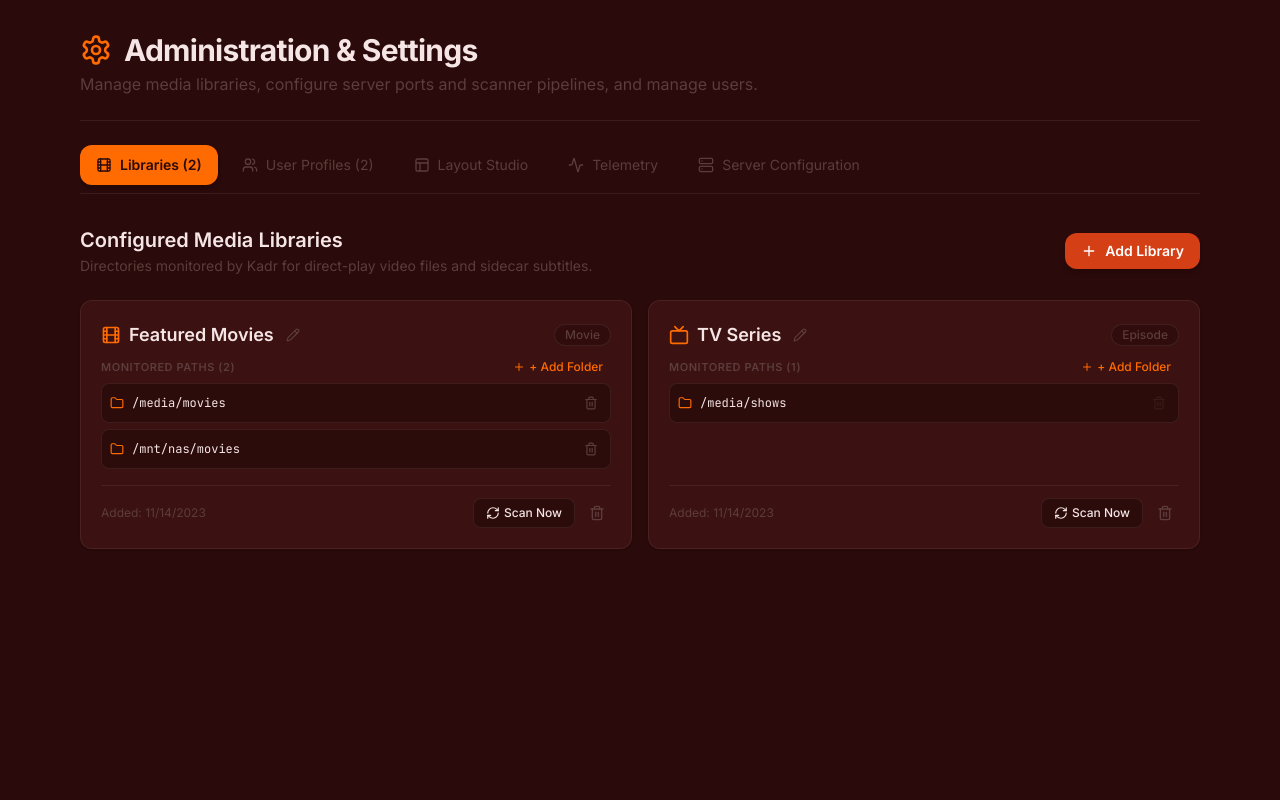
Test: AdminDashboard Component › opens Add Library modal, adds folder path via picker, and creates library
The image size is (1280, 800).
Expected: the heading "Featured Movies" is shown, [129,321,274,349]
Click the button "Add Library" at (1133, 251), box [1065,233,1200,269]
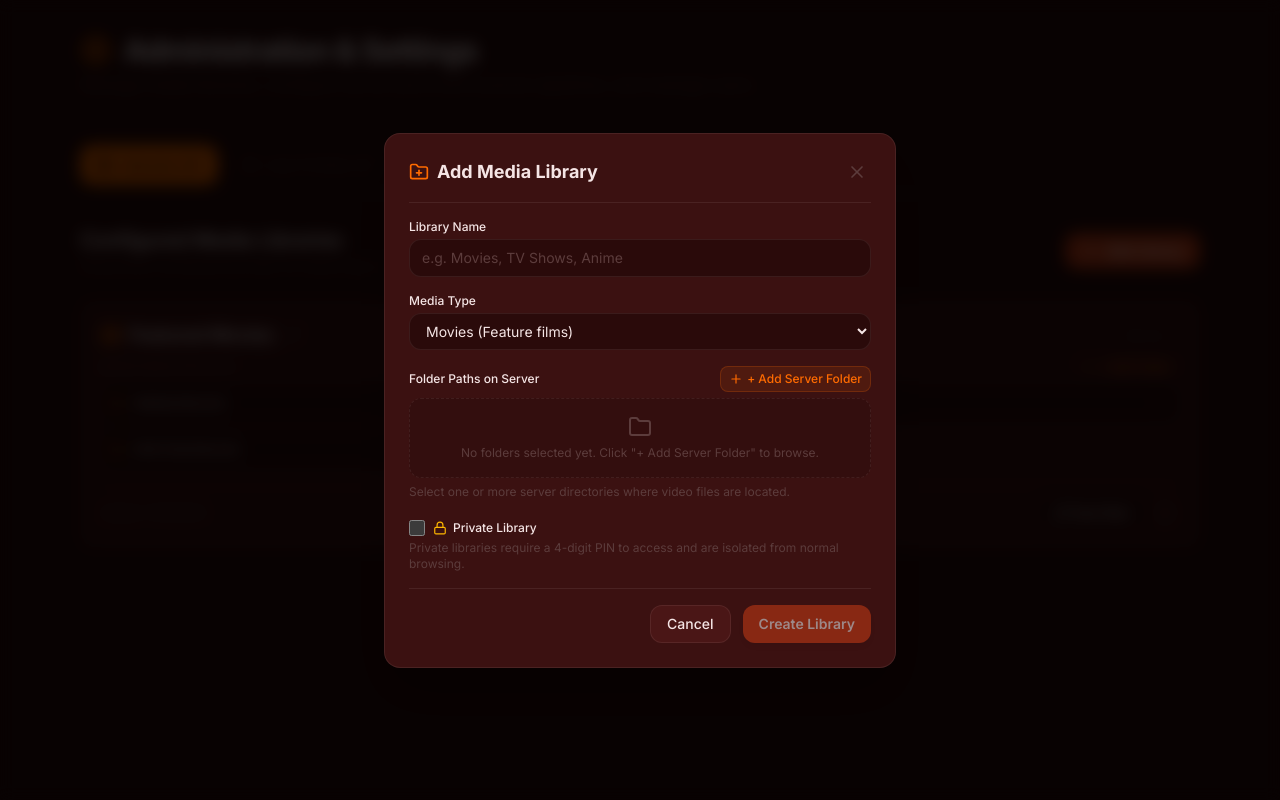
Type "Documentaries" into the field with placeholder "e.g. Movies, TV Shows, Anime" at (640, 258), box [409,238,871,276]
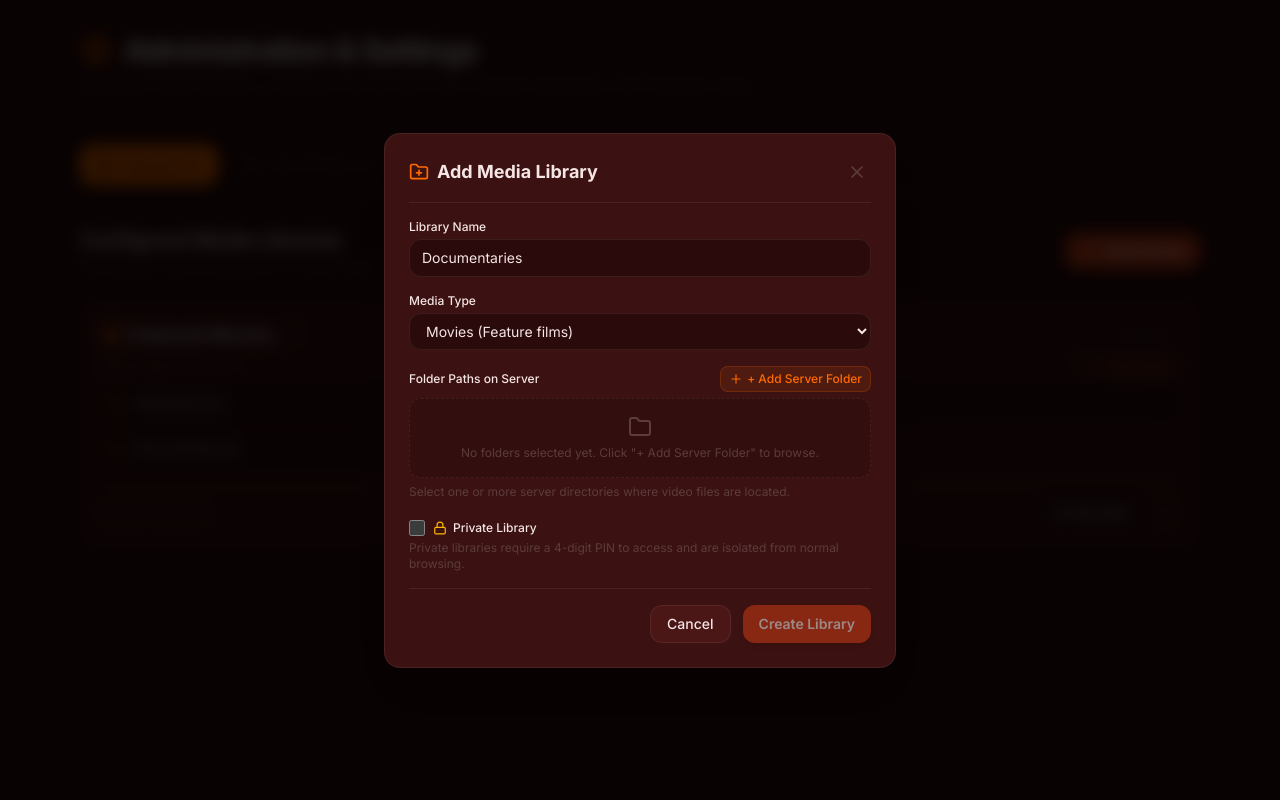
Note: Click "+ Add Server Folder"
Click the button "+ Add Server Folder" at (796, 378), box [720,366,871,392]
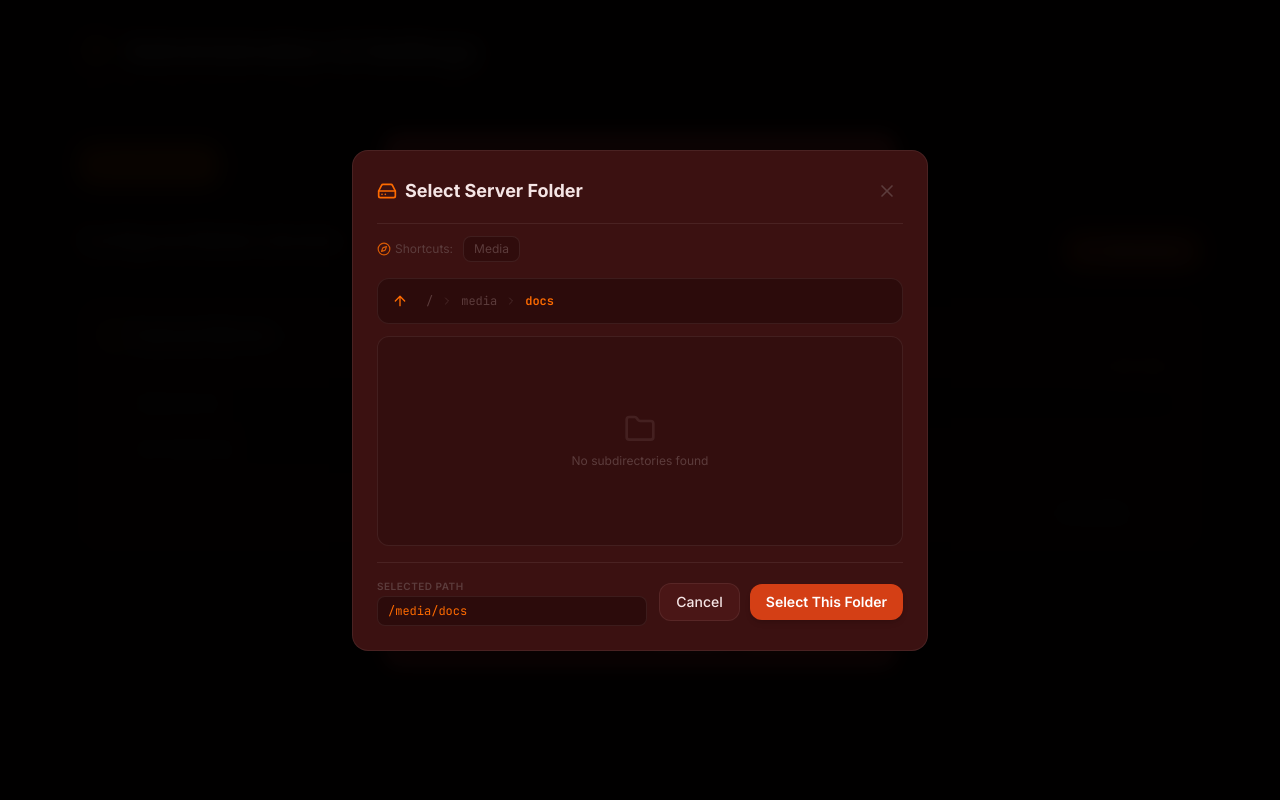
Result: the heading "Select Server Folder" is shown at [405,176,583,204]
Note: Select current folder
Click the button "Select This Folder" at (826, 602), box [750,584,903,620]
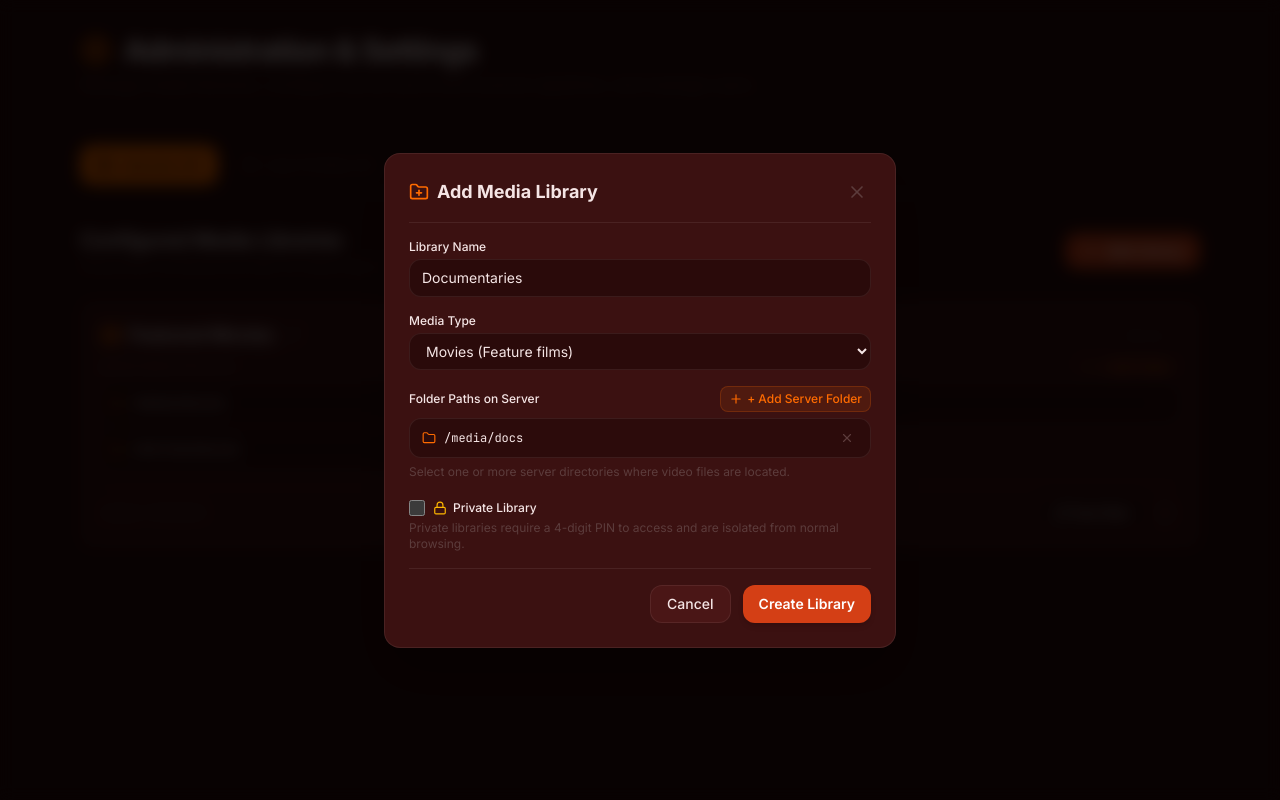
Result: the text "/media/docs" is shown at [444,430,523,446]
Result: the button "Create Library" is enabled
Click the button "Create Library" at (807, 604), box [743,584,871,622]
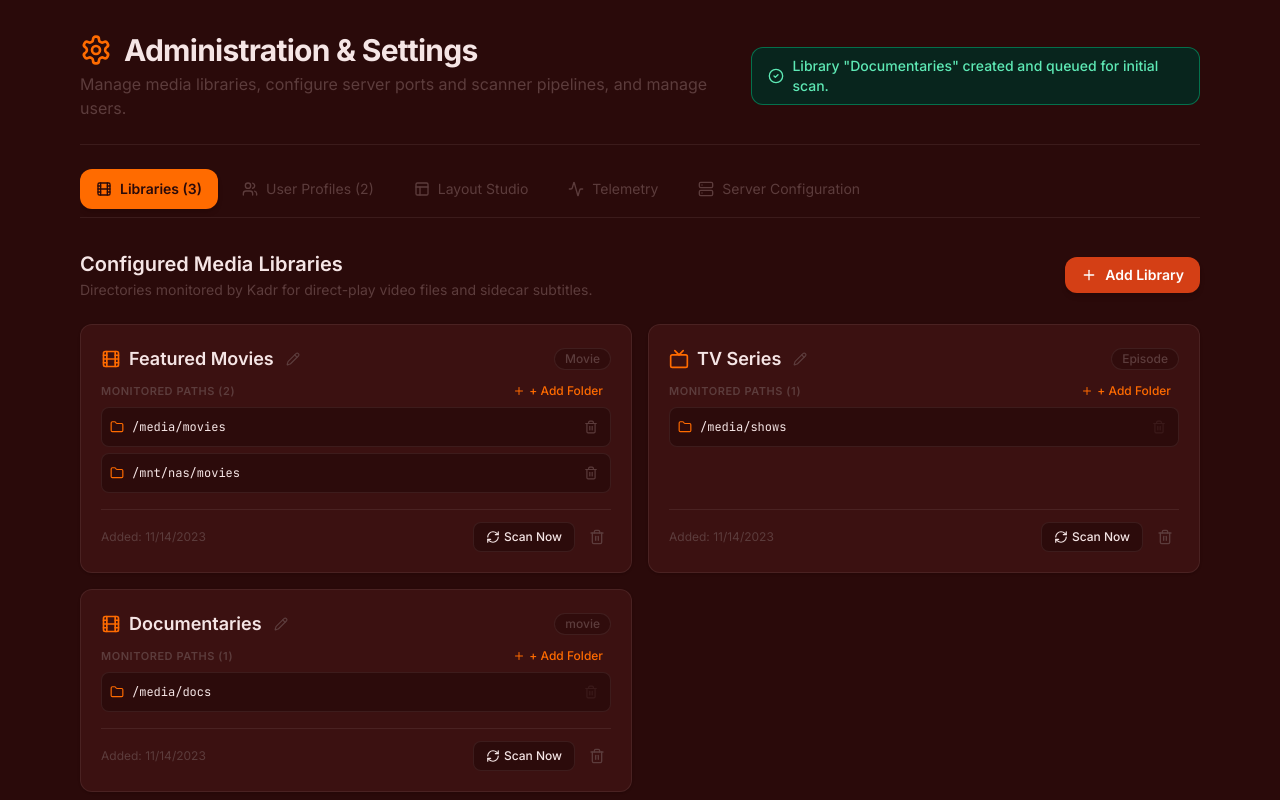
Result: the heading "Documentaries" is shown at [129,610,262,638]
